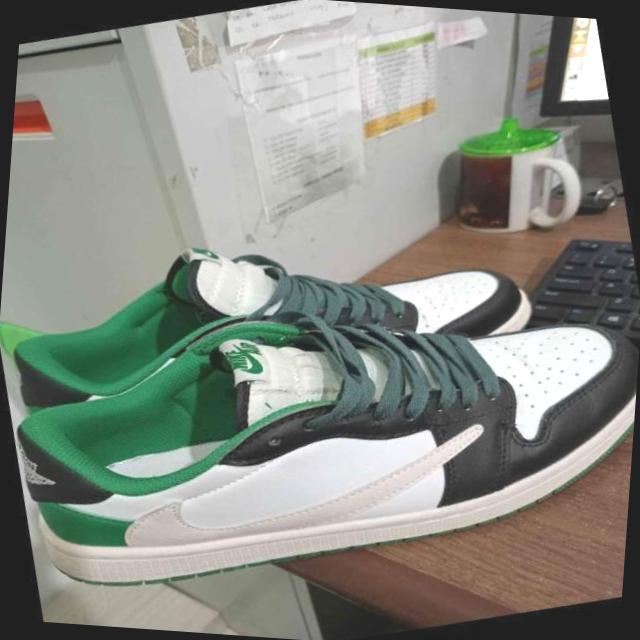nike_fake_jordan: (0, 211, 640, 640), (0, 160, 550, 464)
